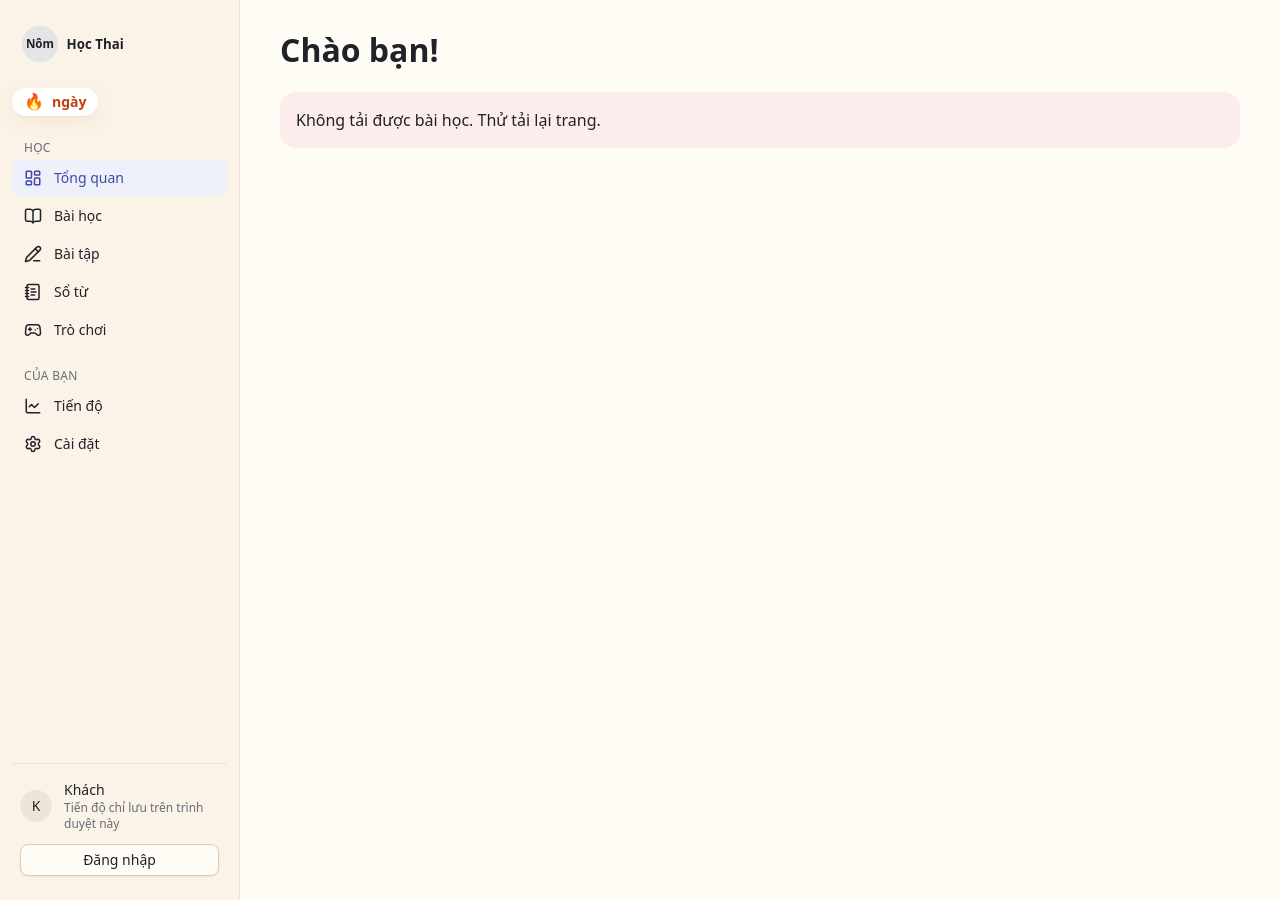
Scenario: routes › điều hướng qua sidebar
Check: the element with test id "page-dashboard" is shown, box left=280, top=32, right=1240, bottom=148
Click the link with test id "nav-units": (63, 216) left=24, top=206, right=102, bottom=225
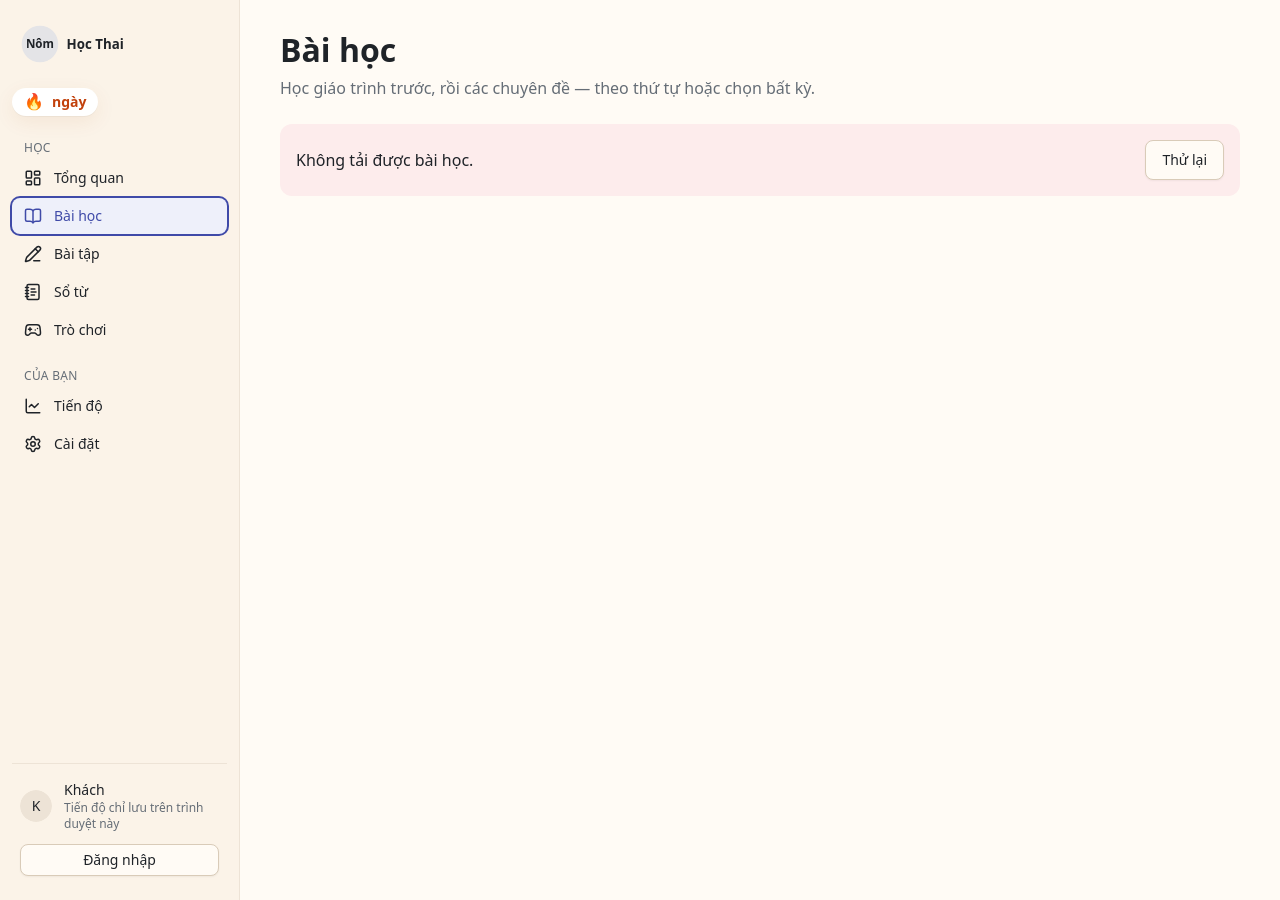
Check: the element with test id "page-units" is shown, box left=280, top=32, right=1240, bottom=196
